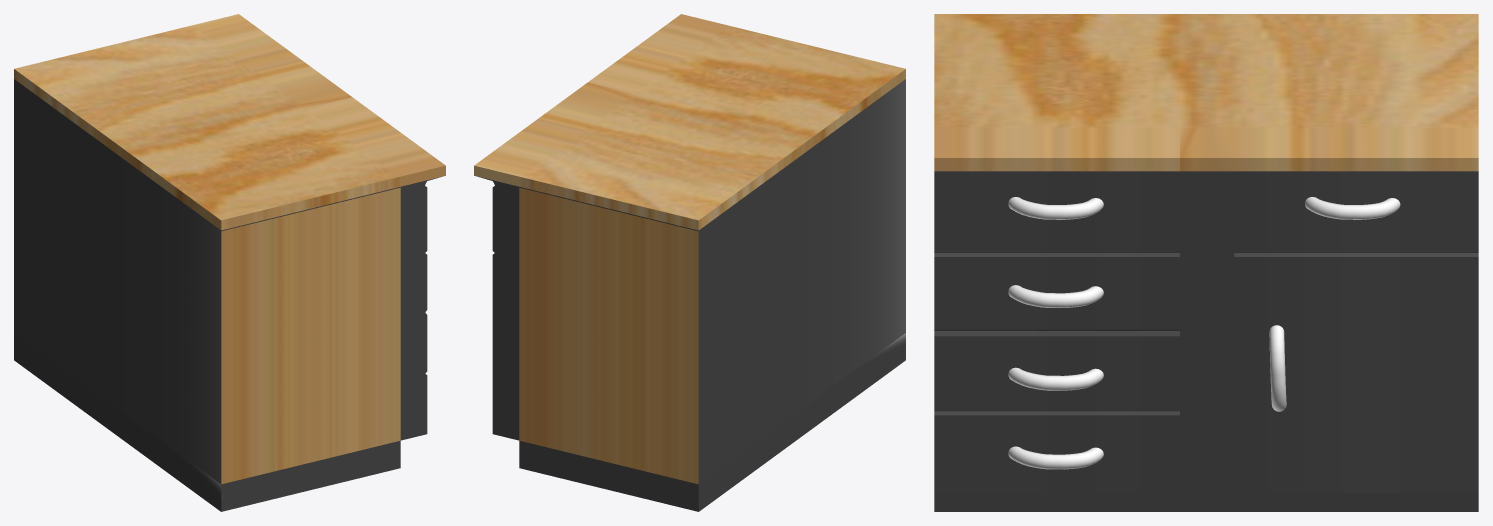
The model's file is SzafKuchZBlatNr2.fbx.
3 views of the same model, side by side, from view 1: azimuth 30°, elevation 25°; view 2: azimuth 150°, elevation 25°; view 3: azimuth 270°, elevation 25° (orthographic). The views are drawn at different scales.
Visible parts, largest first — view 1: Cube.001; view 2: Cube.001; view 3: Cube.001, Cylinder.004, Cylinder.003, Cylinder, Cylinder.002, Cylinder.005, Cylinder.001.
Boxes of the visible parts, x1,y1,x2,y2 form: Cube.001: [14, 14, 445, 511]; Cube.001: [474, 14, 905, 511]; Cube.001: [934, 14, 1478, 511]; Cylinder.004: [1008, 446, 1103, 469]; Cylinder.003: [1008, 367, 1103, 390]; Cylinder: [1008, 197, 1103, 219]; Cylinder.002: [1008, 285, 1103, 307]; Cylinder.005: [1305, 197, 1400, 219]; Cylinder.001: [1269, 325, 1286, 411].
Bounding box in the file's own units: 251 × 311 × 400.
